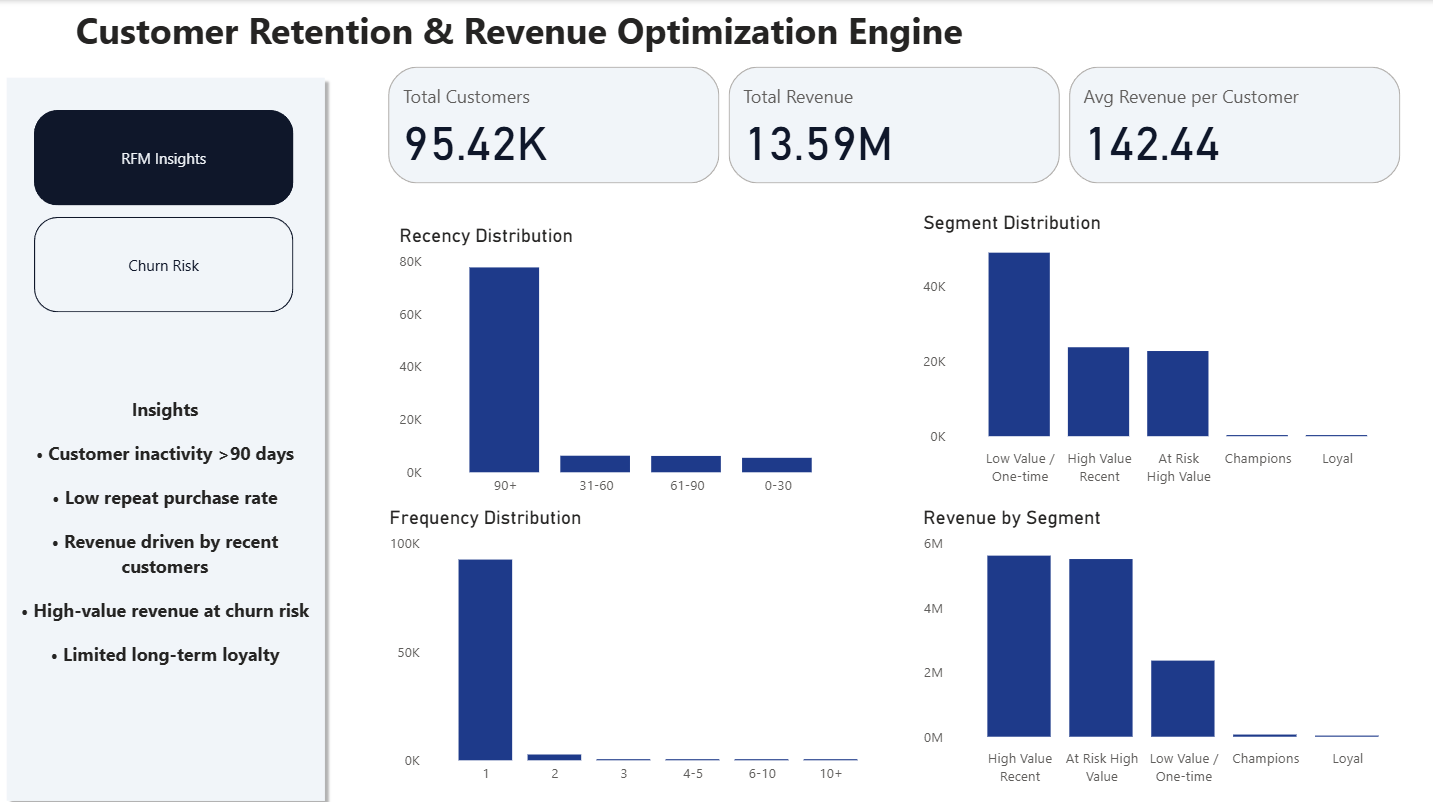

What the dashboard file says about the page in this screenshot:
{"tool":"powerbi","page":{"name":"RFM Insights","canvas":[1280,720],"ordinal":0},"visuals":[{"type":"cardVisual","fields":{"Data":["Count(customer_analytics.customer_unique_id)","Sum(customer_analytics.Monetary)","Avg(customer_analytics.Monetary)"]},"box":[342.1,54.7,911.8,114.4],"z":0},{"type":"columnChart","title":"Segment Distribution","fields":{"Category":["customer_analytics.Segment"],"Y":["CountNonNull(customer_analytics.customer_unique_id)"]},"box":[818.4,187.7,435.6,251.5],"z":1000},{"type":"columnChart","title":"Revenue by Segment","fields":{"Category":["customer_analytics.Segment"],"Y":["Sum(customer_analytics.Monetary)"]},"box":[818.4,450.3,446.6,256.4],"z":2000},{"type":"clusteredColumnChart","title":"Recency Distribution","fields":{"Y":["CountNonNull(customer_analytics.customer_unique_id)"],"Category":["customer_analytics.Recency_Bin"]},"box":[352.1,198.8,412.3,251.5],"z":3000},{"type":"clusteredColumnChart","title":"Frequency Distribution","fields":{"Y":["CountNonNull(customer_analytics.customer_unique_id)"],"Category":["customer_analytics.Frequency_Bin"]},"box":[342.3,450.3,452.8,256.4],"z":4000},{"type":"textbox","box":[63.8,0,833.1,55.2],"z":5000},{"type":"shape","box":[0,62.6,296.9,657.7],"z":6000},{"type":"textbox","box":[13.5,348.5,268.7,347.2],"z":7000},{"type":"pageNavigator","box":[30.7,98.2,231.9,180.4],"z":8000}]}

Visuals, with their boxes in screenshot pixels (x1, y1, x2, y2), scaled from the page's 1280x720 canvas onto the 1433x802 screenshot:
cardVisual - Count(customer_analytics.customer_unique_id) x Sum(customer_analytics.Monetary): left=383, top=61, right=1404, bottom=188
"Segment Distribution" columnChart: left=916, top=209, right=1404, bottom=489
"Revenue by Segment" columnChart: left=916, top=502, right=1416, bottom=787
"Recency Distribution" clusteredColumnChart: left=394, top=221, right=856, bottom=502
"Frequency Distribution" clusteredColumnChart: left=383, top=502, right=890, bottom=787
textbox: left=71, top=0, right=1004, bottom=61
shape: left=0, top=70, right=332, bottom=801
textbox: left=15, top=388, right=316, bottom=775
pageNavigator: left=34, top=109, right=294, bottom=310
